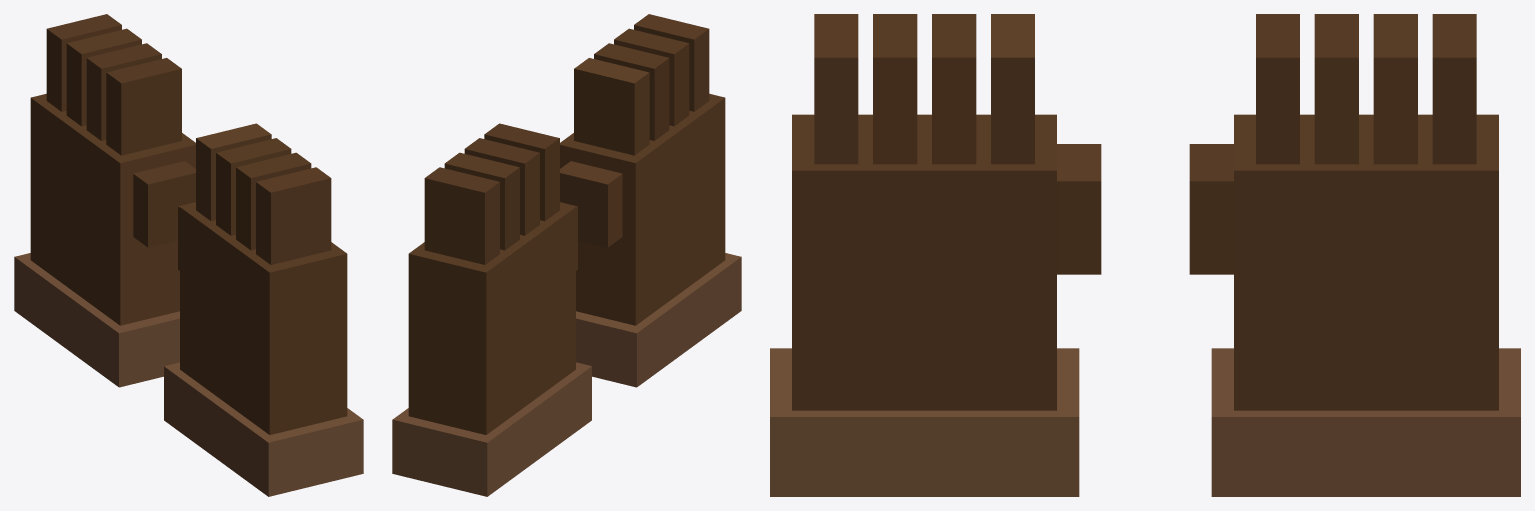
File: i_gloves.glb
3 views of the same model, side by side, from view 1: azimuth 30°, elevation 25°; view 2: azimuth 150°, elevation 25°; view 3: azimuth 270°, elevation 25° (orthographic). The views are drawn at different scales.
Parts seen in each view (by area): view 1: i_gloves; view 2: i_gloves; view 3: i_gloves.
Boxes of the visible parts, <box> form: i_gloves: <box>14,14,363,496</box>; i_gloves: <box>392,14,741,496</box>; i_gloves: <box>770,14,1520,496</box>.
Size of the model in its own units: 0.22 by 0.64 by 1.02.
